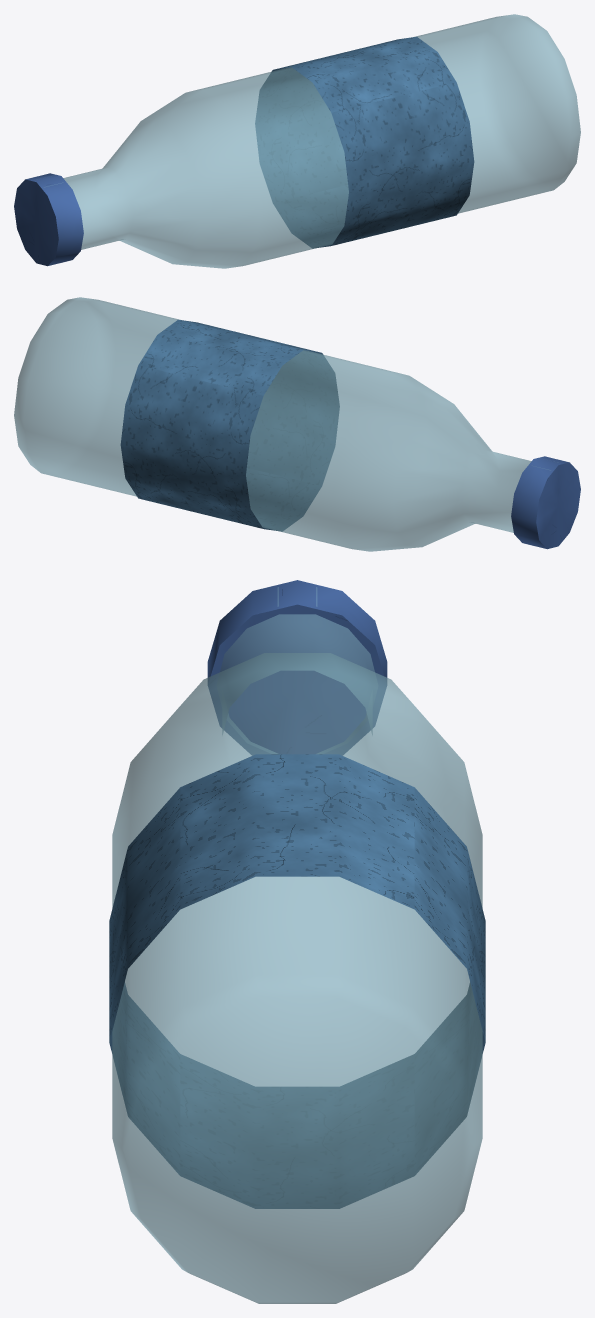
Rendered from plastic_bottle.glb.
The picture shows the model from 3 angles, top to bottom: view 1: azimuth 30°, elevation 25°; view 2: azimuth 150°, elevation 25°; view 3: azimuth 270°, elevation 25°; orthographic projection. The views are drawn at different scales.
Parts seen in each view (by area): view 1: group_0; view 2: group_0; view 3: group_0.
Boxes of the visible parts, x1=… form: group_0: x1=14, y1=14, x2=580, y2=268; group_0: x1=14, y1=297, x2=580, y2=551; group_0: x1=109, y1=580, x2=485, y2=1303.
Size of the model in its own units: 20.1 by 6.34 by 6.5.
Materials: 3 (2 with a texture image).
